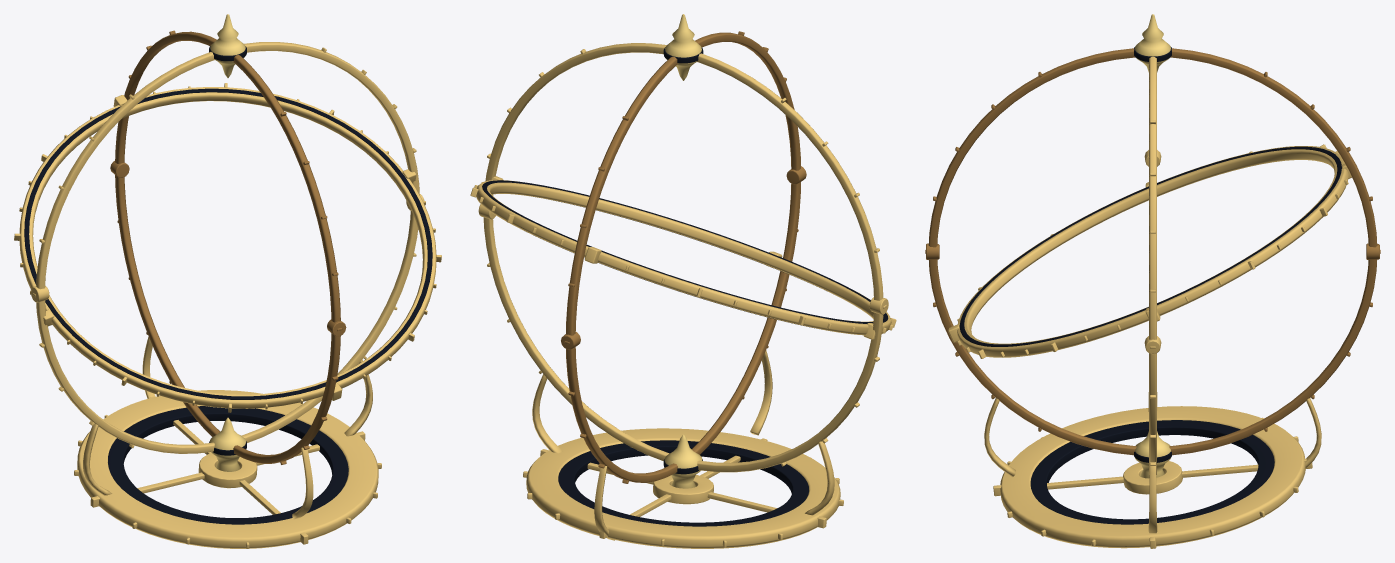
Rendered from world_globe_rig.glb.
3 views of the same model, side by side, from view 1: azimuth 30°, elevation 25°; view 2: azimuth 150°, elevation 25°; view 3: azimuth 270°, elevation 25° (orthographic). The views are drawn at different scales.
Parts seen in each view (by area): view 1: Compass_Base_Brass, Equatorial_Vernier_Brass, Meridian_Arc_1, Meridian_Arc_2, Compass_Base_Obsidian, Equatorial_Vernier_Obsidian, Polar_Finials_Brass; view 2: Compass_Base_Brass, Meridian_Arc_1, Meridian_Arc_2, Equatorial_Vernier_Brass, Compass_Base_Obsidian, Polar_Finials_Brass, Equatorial_Vernier_Obsidian; view 3: Compass_Base_Brass, Meridian_Arc_2, Equatorial_Vernier_Brass, Compass_Base_Obsidian, Meridian_Arc_1, Equatorial_Vernier_Obsidian, Polar_Finials_Brass.
Boxes of the visible parts, left/top/right/bottom form: Compass_Base_Brass: left=74, top=336, right=381, bottom=548; Equatorial_Vernier_Brass: left=14, top=83, right=441, bottom=412; Meridian_Arc_1: left=31, top=42, right=424, bottom=453; Meridian_Arc_2: left=110, top=30, right=346, bottom=464; Compass_Base_Obsidian: left=108, top=406, right=348, bottom=524; Equatorial_Vernier_Obsidian: left=24, top=88, right=432, bottom=399; Polar_Finials_Brass: left=210, top=14, right=245, bottom=471; Compass_Base_Brass: left=523, top=350, right=843, bottom=548; Meridian_Arc_1: left=478, top=43, right=888, bottom=472; Meridian_Arc_2: left=561, top=31, right=806, bottom=483; Equatorial_Vernier_Brass: left=470, top=176, right=896, bottom=339; Compass_Base_Obsidian: left=558, top=440, right=808, bottom=526; Polar_Finials_Brass: left=664, top=14, right=702, bottom=488; Equatorial_Vernier_Obsidian: left=482, top=180, right=888, bottom=328; Compass_Base_Brass: left=984, top=392, right=1321, bottom=548; Meridian_Arc_2: left=925, top=48, right=1380, bottom=455; Equatorial_Vernier_Brass: left=948, top=144, right=1351, bottom=358; Compass_Base_Obsidian: left=1030, top=420, right=1274, bottom=524; Meridian_Arc_1: left=1144, top=57, right=1161, bottom=474; Equatorial_Vernier_Obsidian: left=959, top=146, right=1341, bottom=346; Polar_Finials_Brass: left=1135, top=14, right=1170, bottom=478.
Size of the model in its own units: 3.68 by 4.3 by 3.68.
